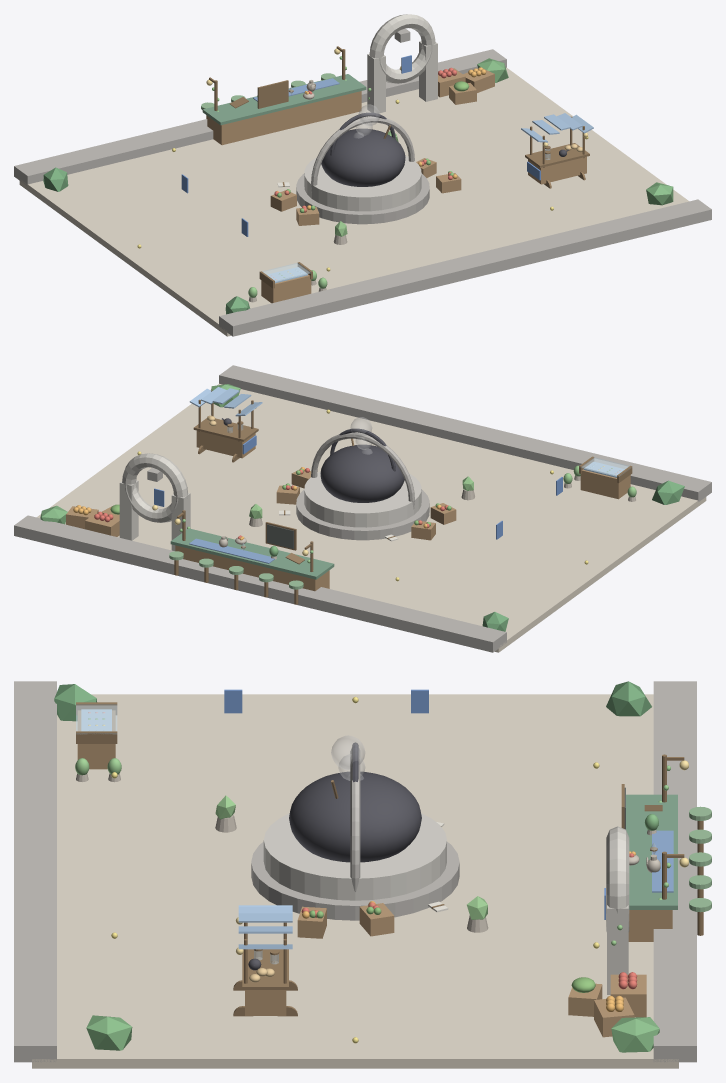
Rendered from restaurant_v1.glb.
3 renders of one model, top to bottom at view 1: azimuth 30°, elevation 25°; view 2: azimuth 150°, elevation 25°; view 3: azimuth 270°, elevation 25°, orthographic. The views are drawn at different scales.
Visible parts, largest first — view 1: ground, border_-1, border_1, cauldron, hearth, bar_counter, bar_top, arch_top, hearth_base, hearth_rim, arch_pillar_-1, displaycase_body (+6 smaller); view 2: ground, border_1, border_-1, cauldron, hearth, bar_top, arch_top, hearth_base, bar_counter, hearth_rim, displaycase_body, arch_pillar_1 (+8 smaller); view 3: ground, border_-1, border_1, cauldron, hearth, hearth_base, bar_top, arch_top, arch_pillar_1, bush_3, cart_top, hearth_rim (+15 smaller).
Boxes of the visible parts, left/top/right/bottom form: ground: left=19, top=67, right=689, bottom=336; border_-1: left=219, top=199, right=711, bottom=336; border_1: left=14, top=49, right=506, bottom=185; cauldron: left=321, top=128, right=405, bottom=186; hearth: left=304, top=155, right=421, bottom=211; bar_counter: left=207, top=91, right=361, bottom=145; bar_top: left=202, top=74, right=366, bottom=125; arch_top: left=369, top=14, right=435, bottom=83; hearth_base: left=296, top=173, right=429, bottom=224; hearth_rim: left=311, top=116, right=414, bottom=193; arch_pillar_-1: left=367, top=53, right=385, bottom=113; displaycase_body: left=261, top=274, right=311, bottom=303; ground: left=36, top=383, right=706, bottom=652; border_1: left=14, top=515, right=506, bottom=652; border_-1: left=219, top=365, right=711, bottom=501; cauldron: left=320, top=444, right=404, bottom=502; hearth: left=304, top=471, right=421, bottom=527; bar_top: left=170, top=528, right=334, bottom=579; arch_top: left=122, top=453, right=187, bottom=522; hearth_base: left=296, top=489, right=429, bottom=540; bar_counter: left=175, top=545, right=329, bottom=591; hearth_rim: left=311, top=432, right=414, bottom=509; displaycase_body: left=580, top=469, right=630, bottom=499; arch_pillar_1: left=119, top=480, right=138, bottom=540; ground: left=32, top=694, right=678, bottom=1068; border_-1: left=14, top=681, right=56, bottom=1062; border_1: left=653, top=681, right=696, bottom=1062; cauldron: left=289, top=771, right=421, bottom=862; hearth: left=263, top=813, right=446, bottom=900; hearth_base: left=251, top=841, right=459, bottom=920; bar_top: left=626, top=794, right=677, bottom=909; arch_top: left=606, top=826, right=629, bottom=931; arch_pillar_1: left=607, top=905, right=628, bottom=994; bush_3: left=611, top=1017, right=659, bottom=1052; cart_top: left=242, top=949, right=288, bottom=989; hearth_rim: left=350, top=748, right=360, bottom=891.
Size of the model in its own units: 24 by 5.82 by 19.42.
